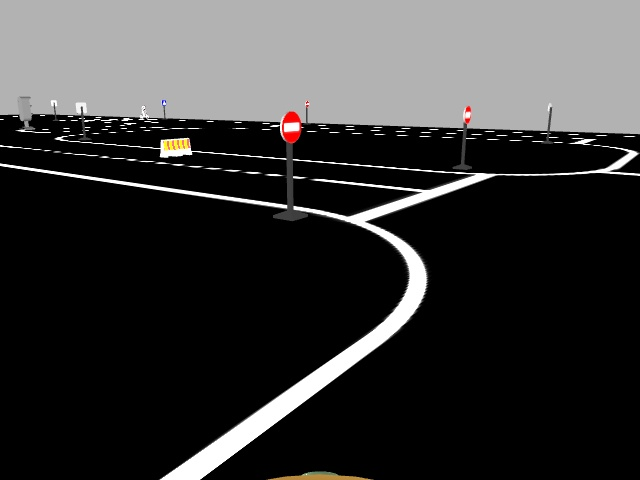ClosedRoadStand: (159, 137, 194, 156)
NoEntry: (277, 108, 301, 140)
